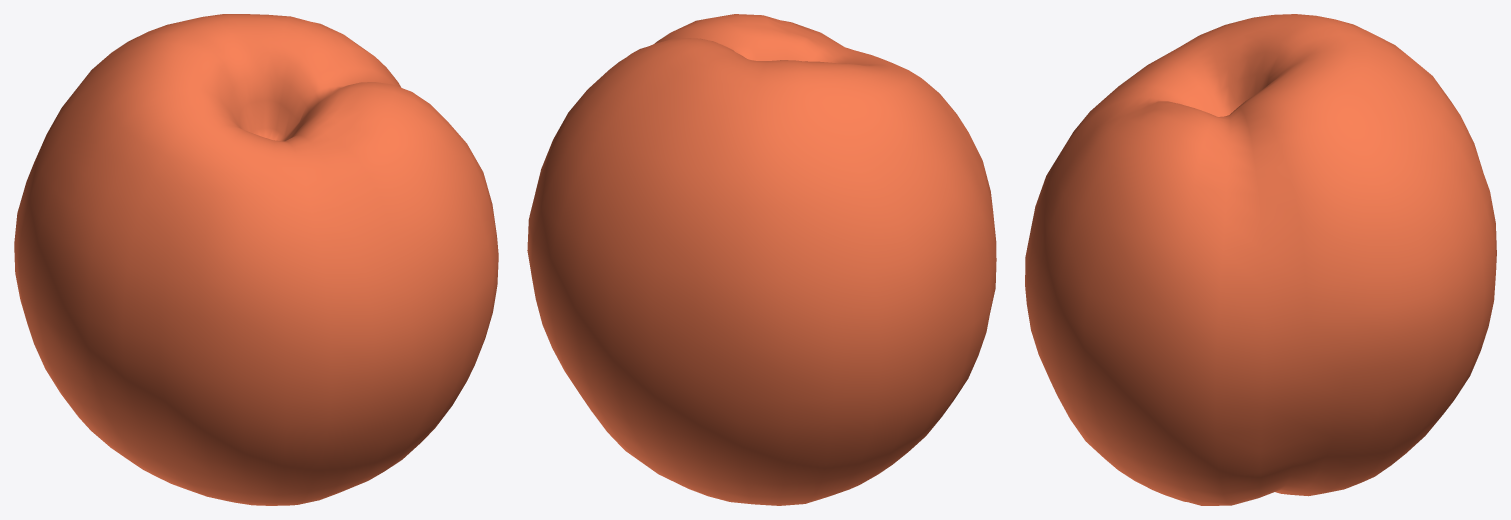
The model's file is Peach.fbx.
3 views of the same model, side by side, from view 1: azimuth 30°, elevation 25°; view 2: azimuth 150°, elevation 25°; view 3: azimuth 270°, elevation 25° (orthographic). The views are drawn at different scales.
Visible parts, largest first — view 1: Peach; view 2: Peach; view 3: Peach.
Boxes of the visible parts, <box> form: Peach: <box>14,14,498,505</box>; Peach: <box>527,14,996,505</box>; Peach: <box>1025,14,1496,505</box>.
Bounding box in the file's own units: 27.08 × 27.16 × 27.2.
